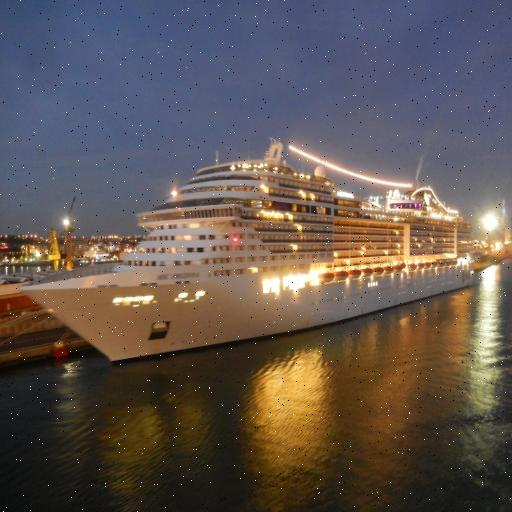cruises: (21, 127, 480, 374)
